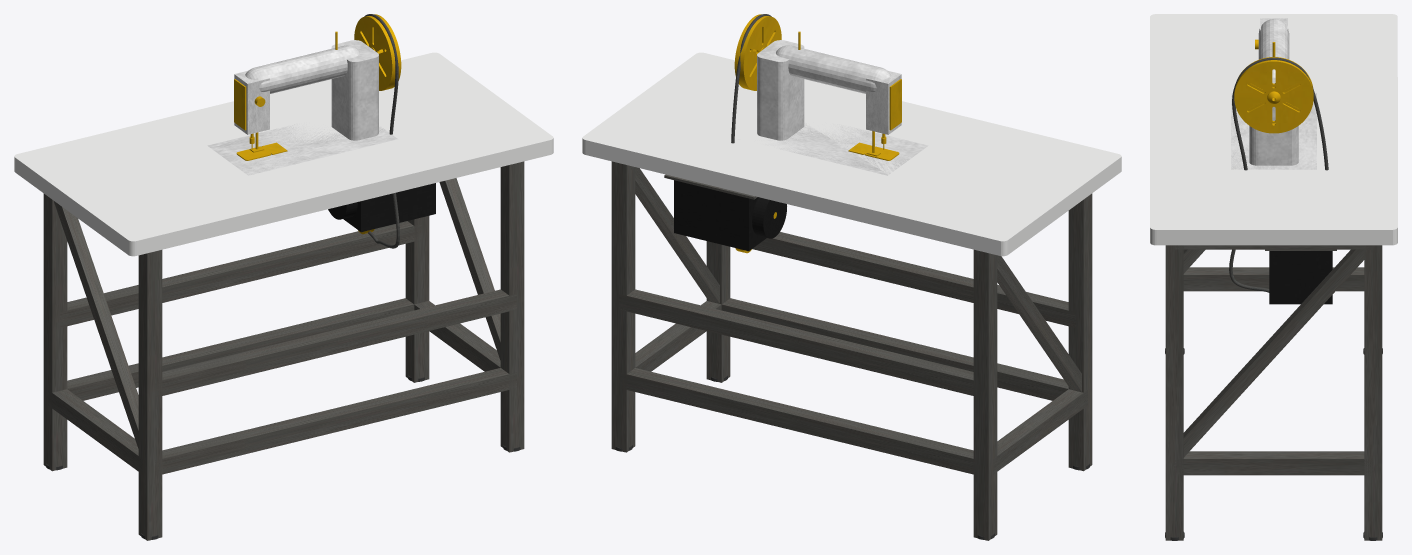
Rendered from sewing_machine__0006.glb.
3 views of the same model, side by side, from view 1: azimuth 30°, elevation 25°; view 2: azimuth 150°, elevation 25°; view 3: azimuth 270°, elevation 25° (orthographic). The views are drawn at different scales.
Parts seen in each view (by area): view 1: chassis::tabletop, chassis::front_cross_1, chassis::front_cross_0, chassis::rear_cross_1, chassis::leg_0_0, chassis::leg_1_0, chassis::leg_0_1, chassis::rear_cross_0, chassis::bed, chassis::k_brace_0, chassis::pillar, chassis::leg_1_1 (+8 smaller); view 2: chassis::tabletop, chassis::rear_cross_1, chassis::rear_cross_0, chassis::leg_0_1, chassis::leg_1_1, chassis::front_cross_1, chassis::leg_0_0, chassis::front_cross_0, chassis::motor_body, chassis::bed, chassis::pillar, chassis::arm (+8 smaller); view 3: chassis::tabletop, chassis::leg_1_0, chassis::leg_1_1, handwheel::wheel, chassis::lower_stretcher_1, chassis::k_brace_1, chassis::motor_body, chassis::lower_stretcher_0, chassis::bed, chassis::pillar, v_belt::belt_loop, chassis::arm (+1 smaller).
Part boxes in pixels (x1,y1,x2,y2): chassis::tabletop: (14, 52, 553, 256); chassis::front_cross_1: (155, 289, 516, 397); chassis::front_cross_0: (155, 368, 516, 475); chassis::rear_cross_1: (59, 221, 421, 327); chassis::leg_0_0: (138, 250, 162, 540); chassis::leg_1_0: (500, 161, 524, 452); chassis::leg_0_1: (43, 193, 67, 471); chassis::rear_cross_0: (67, 298, 414, 400); chassis::bed: (207, 122, 397, 175); chassis::k_brace_0: (54, 201, 138, 448); chassis::pillar: (331, 40, 378, 140); chassis::leg_1_1: (405, 216, 429, 382); chassis::tabletop: (582, 52, 1121, 256); chassis::rear_cross_1: (619, 289, 980, 396); chassis::rear_cross_0: (619, 368, 980, 474); chassis::leg_0_1: (973, 249, 997, 540); chassis::leg_1_1: (611, 161, 635, 452); chassis::front_cross_1: (752, 232, 1076, 327); chassis::leg_0_0: (1068, 193, 1092, 471); chassis::front_cross_0: (721, 298, 1068, 400); chassis::motor_body: (674, 180, 766, 251); chassis::bed: (738, 123, 928, 175); chassis::pillar: (757, 40, 804, 140); chassis::arm: (776, 45, 890, 93); chassis::tabletop: (1150, 14, 1397, 245); chassis::leg_1_0: (1165, 245, 1183, 540); chassis::leg_1_1: (1364, 245, 1382, 540); handwheel::wheel: (1234, 57, 1313, 133); chassis::lower_stretcher_1: (1174, 451, 1373, 475); chassis::k_brace_1: (1183, 249, 1364, 457); chassis::motor_body: (1269, 251, 1332, 304); chassis::lower_stretcher_0: (1183, 267, 1364, 291); chassis::bed: (1231, 93, 1316, 169); chassis::pillar: (1249, 78, 1298, 165); v_belt::belt_loop: (1229, 57, 1328, 292); chassis::arm: (1258, 19, 1289, 77).
Bounding box in the file's own units: 1.13 × 1.06 × 0.55.
7 materials, 6 textured.
